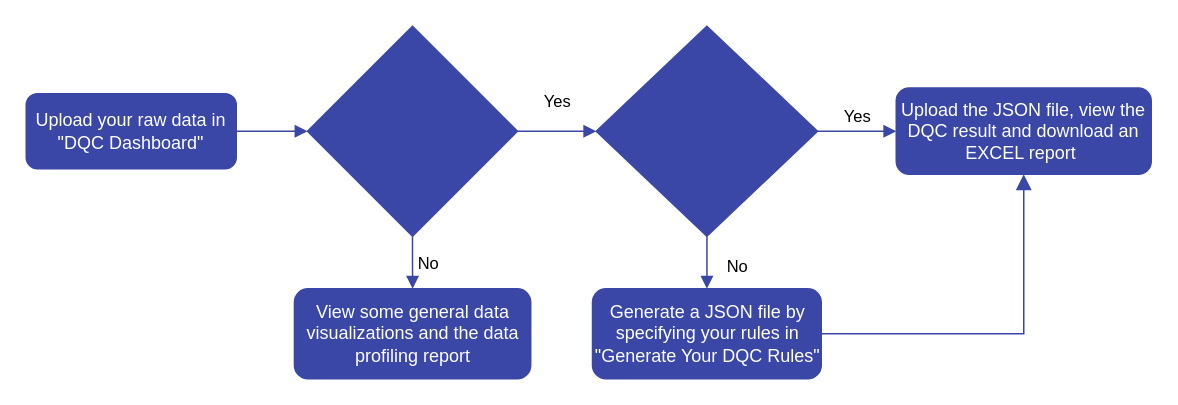
This 1178x405 diagram has some shape labels left out. Each missing label, with the box of its shape:
Do you have a JSON file that contains your specific rules for DQC?: (595, 25, 818, 236)
Do you need to conduct DQC for certain columns?: (306, 25, 518, 236)
